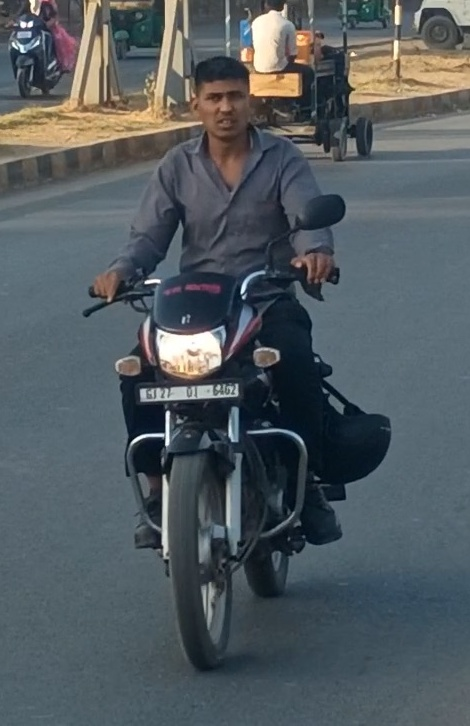BikeWithRider: (76, 51, 402, 678)
NoHelmet: (186, 53, 259, 145)
